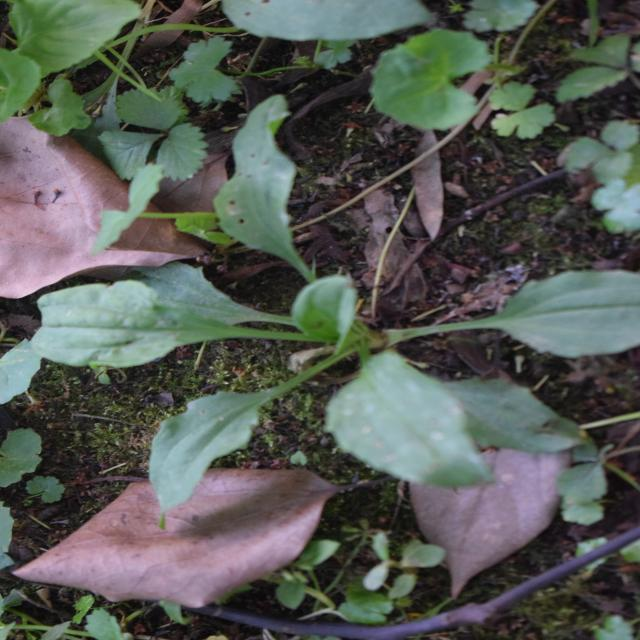plantain: (160, 39, 476, 593)
